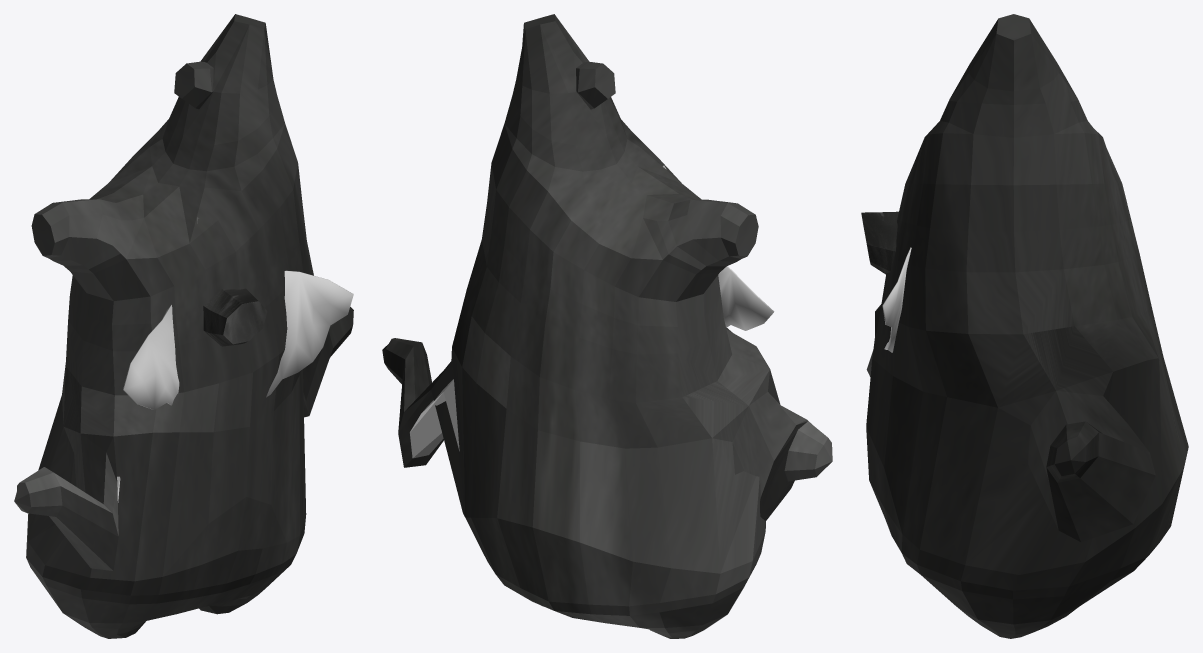
The model's file is frame_0026.obj.
3 views of the same model, side by side, from view 1: azimuth 30°, elevation 25°; view 2: azimuth 150°, elevation 25°; view 3: azimuth 270°, elevation 25° (orthographic). The views are drawn at different scales.
Parts seen in each view (by area): view 1: korok, leaf, nose; view 2: korok, leaf; view 3: korok, nose, leaf.
Boxes of the visible parts, bbox=[...] form: korok: bbox=[14, 14, 353, 638]; leaf: bbox=[123, 217, 353, 410]; nose: bbox=[203, 288, 267, 346]; korok: bbox=[382, 14, 832, 638]; leaf: bbox=[663, 165, 774, 330]; korok: bbox=[866, 14, 1188, 638]; nose: bbox=[861, 211, 898, 274]; leaf: bbox=[882, 247, 911, 352].
Size of the model in its own units: 1.76 by 2.5 by 1.18.
